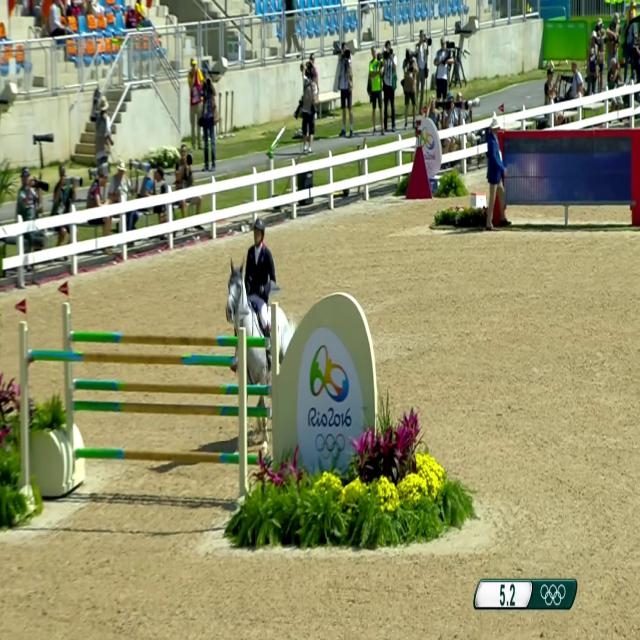Horse Rider: (244, 178, 292, 304)
Horse Running: (228, 249, 313, 389)
